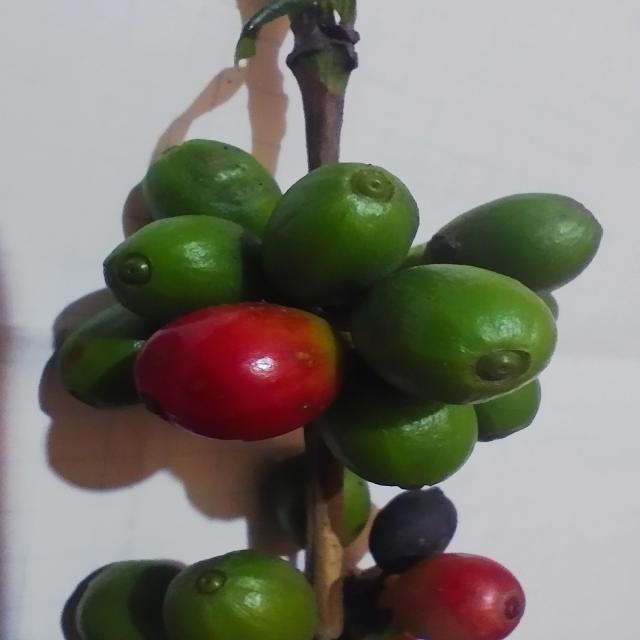Sano: (343, 264, 558, 407), (133, 302, 342, 444), (261, 163, 422, 313), (417, 193, 604, 298), (101, 217, 262, 328), (371, 554, 527, 640)
